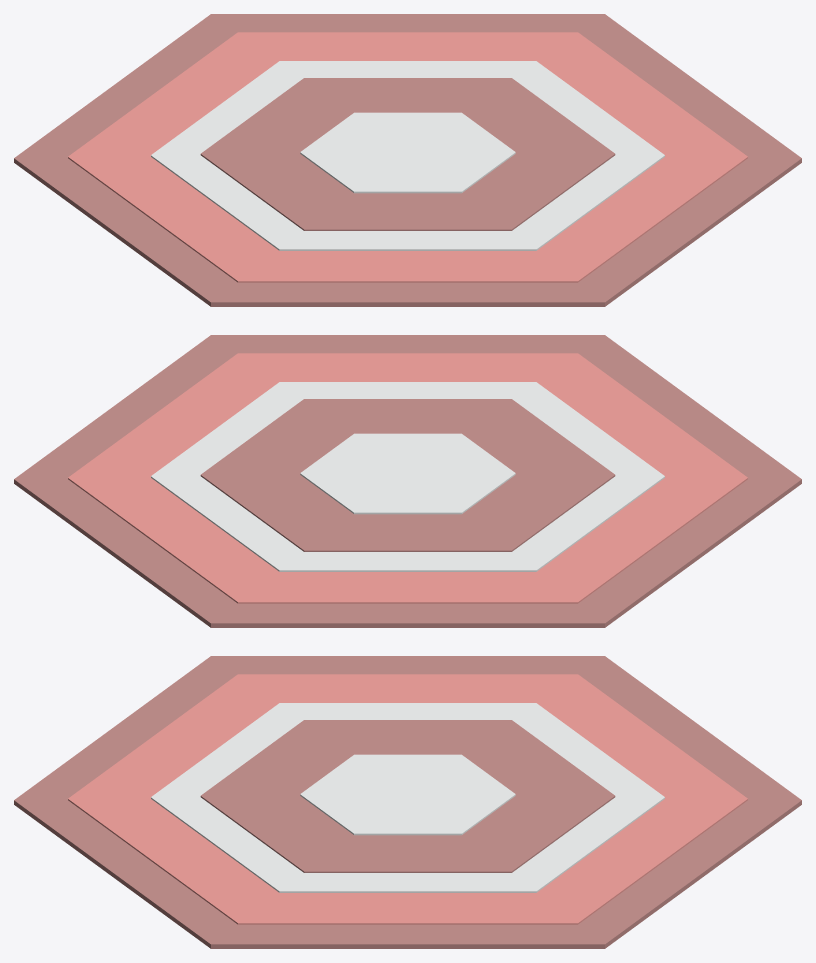
The model's file is rugHexGeo.glb.
3 views of the same model, one above another, from view 1: azimuth 30°, elevation 25°; view 2: azimuth 150°, elevation 25°; view 3: azimuth 270°, elevation 25° (orthographic).
Visible parts, largest first — view 1: rugHexGeo; view 2: rugHexGeo; view 3: rugHexGeo.
Part boxes in pixels (<box>): rugHexGeo: <box>14,14,801,306</box>; rugHexGeo: <box>14,335,801,627</box>; rugHexGeo: <box>14,656,801,948</box>.
Bounding box in the file's own units: 0.8227 × 0.014 × 0.95.
